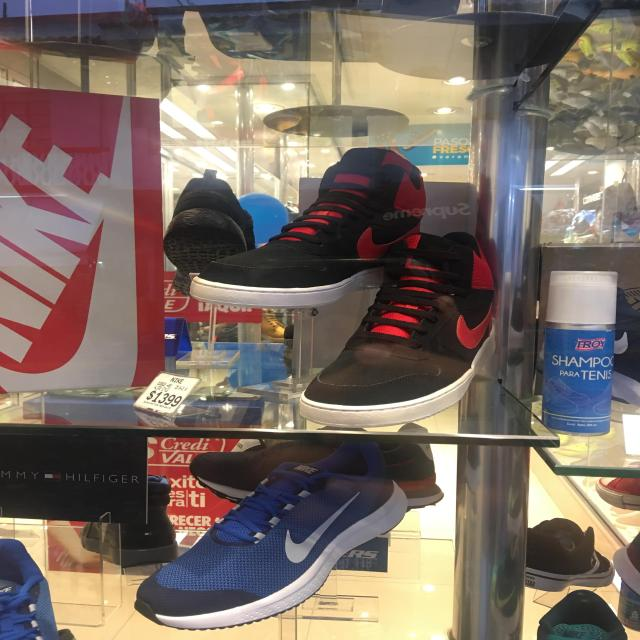shoe: (125, 444, 424, 632), (287, 221, 523, 433), (178, 143, 434, 309)
